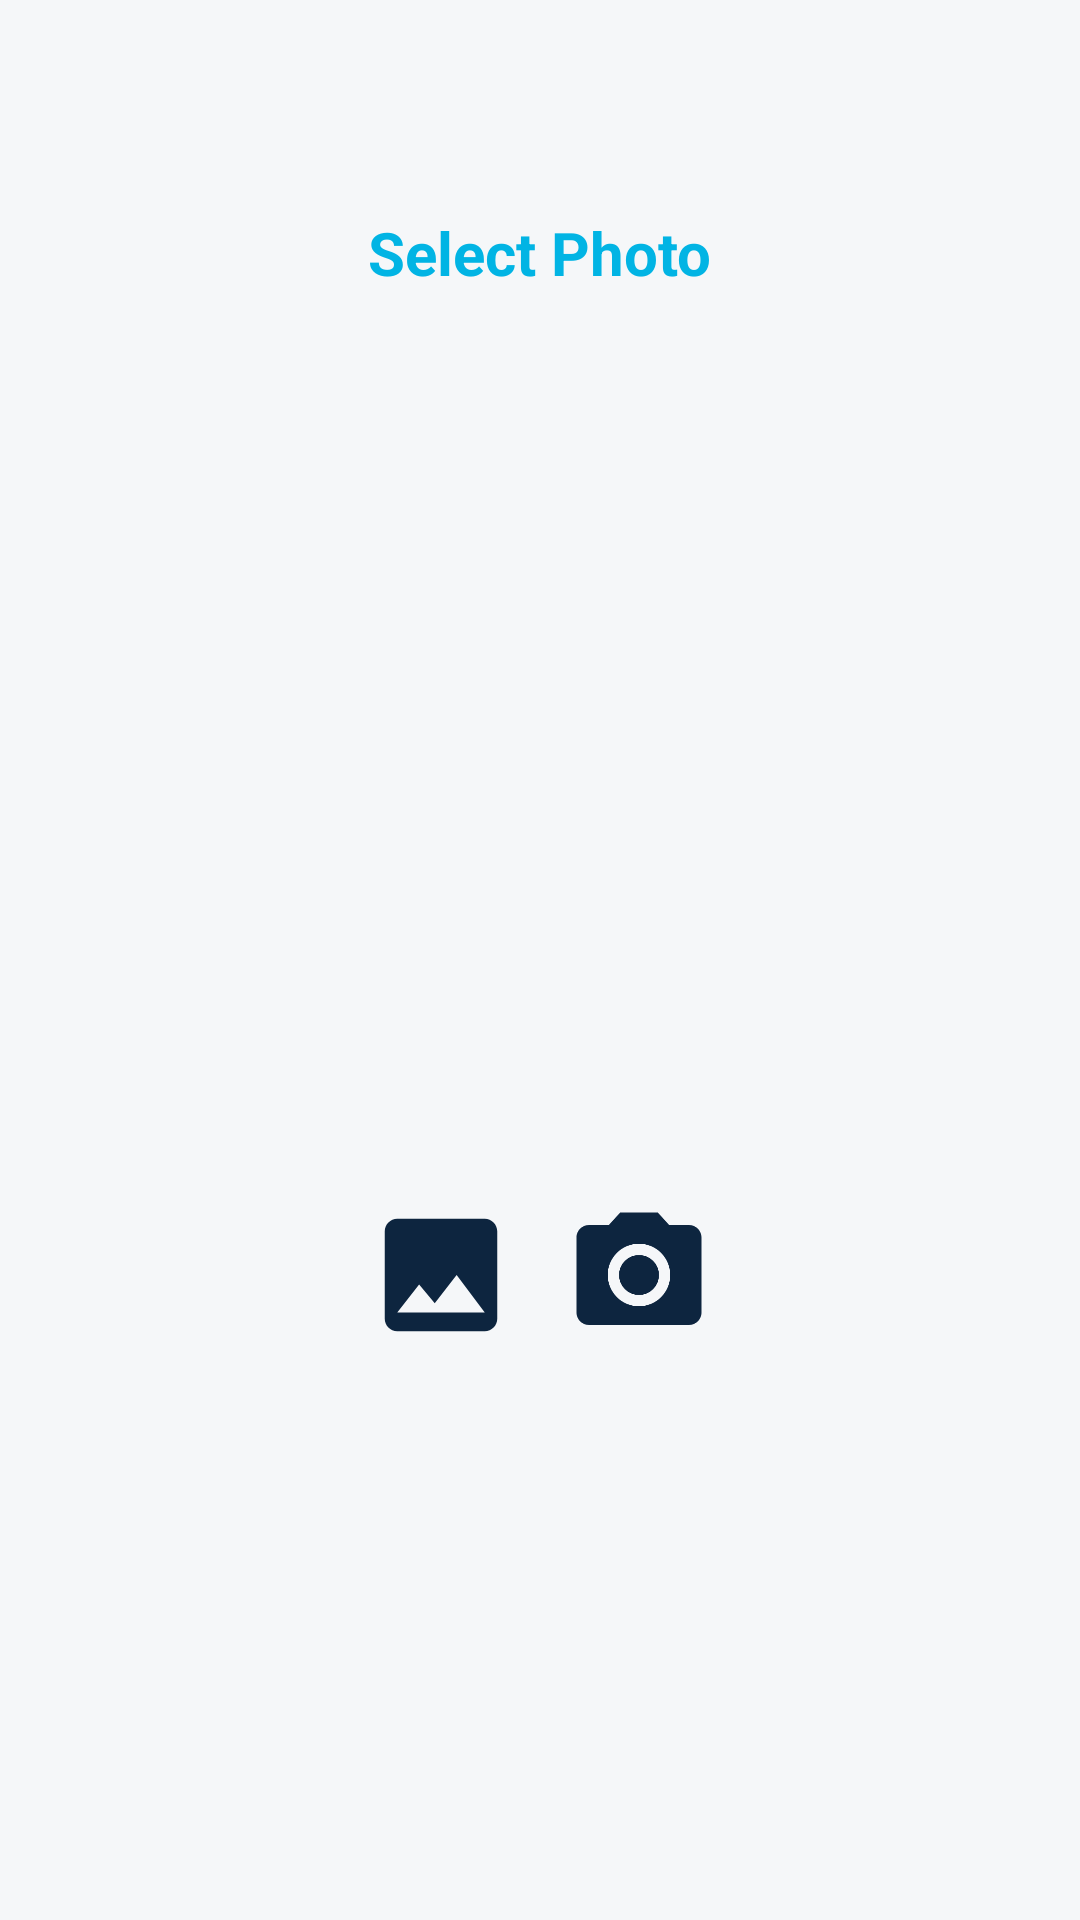

Icon bounding boxes for this 1080x1920 phone screenshot, format (x1, y1, x2, y2):
camera: (576, 1212, 702, 1325)
photo: (384, 1218, 498, 1332)
